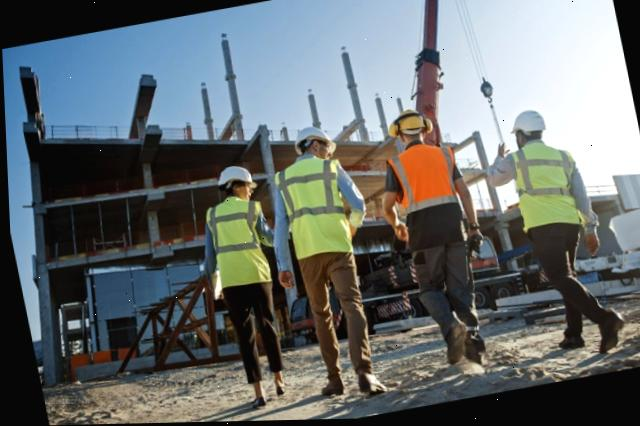helmet: (381, 108, 435, 145), (288, 123, 341, 158), (209, 162, 255, 195), (508, 110, 546, 137)
vest: (270, 154, 355, 266), (197, 196, 278, 292), (501, 143, 582, 235), (380, 144, 460, 221)
